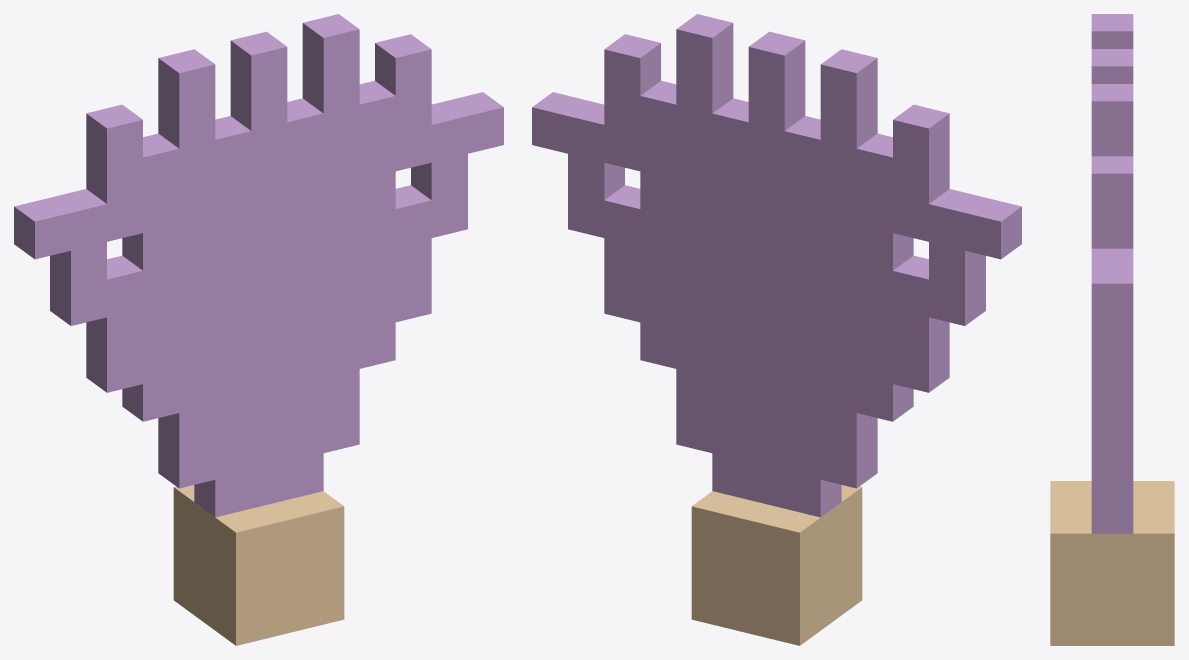
File: alien-biosphere-fan-gill-0423831f__22728.glb
3 renders of one model, left to right at view 1: azimuth 30°, elevation 25°; view 2: azimuth 150°, elevation 25°; view 3: azimuth 270°, elevation 25°, orthographic.
Parts seen in each view (by area): view 1: fan-gill; view 2: fan-gill; view 3: fan-gill.
Part boxes in pixels (x1=…): fan-gill: x1=14, y1=14, x2=503, y2=645; fan-gill: x1=532, y1=14, x2=1021, y2=645; fan-gill: x1=1050, y1=14, x2=1174, y2=645.
Bounding box in the file's own units: 1.69 × 1.95 × 0.39.
